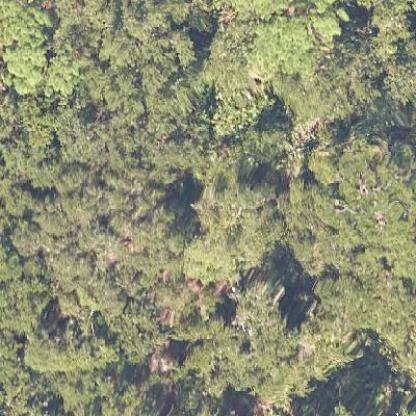tree-top: (2, 0, 83, 99), (190, 189, 274, 280), (239, 9, 333, 76), (19, 326, 115, 378)
